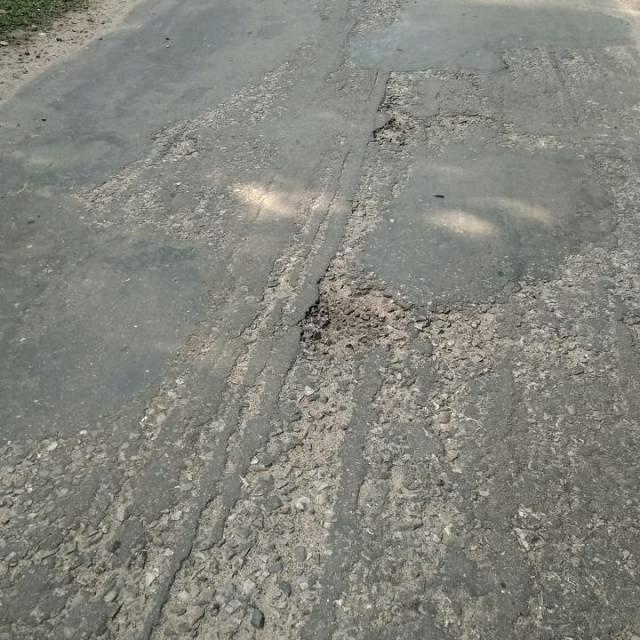Pothole: (297, 279, 412, 356), (372, 116, 410, 149)
